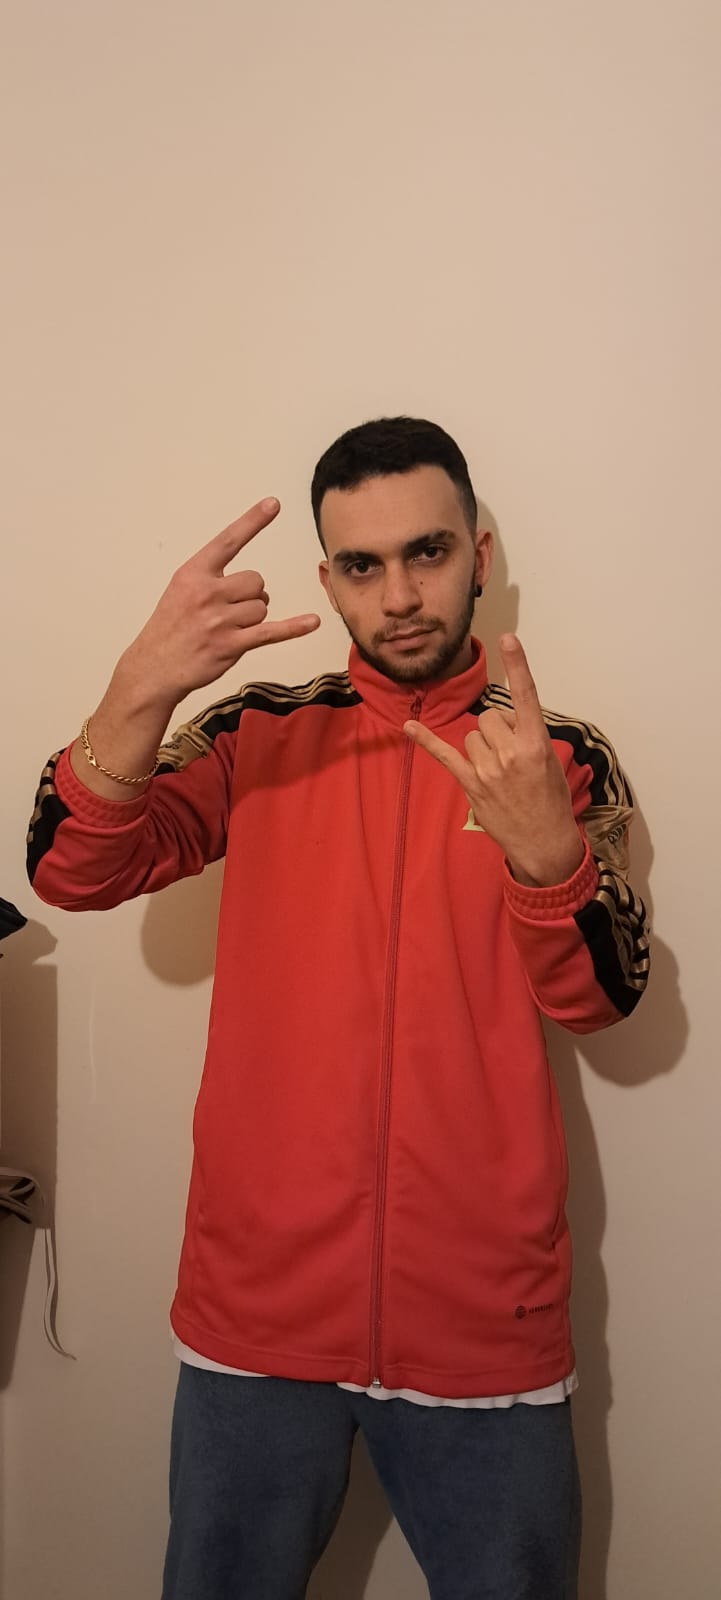rock: (154, 489, 575, 819)
